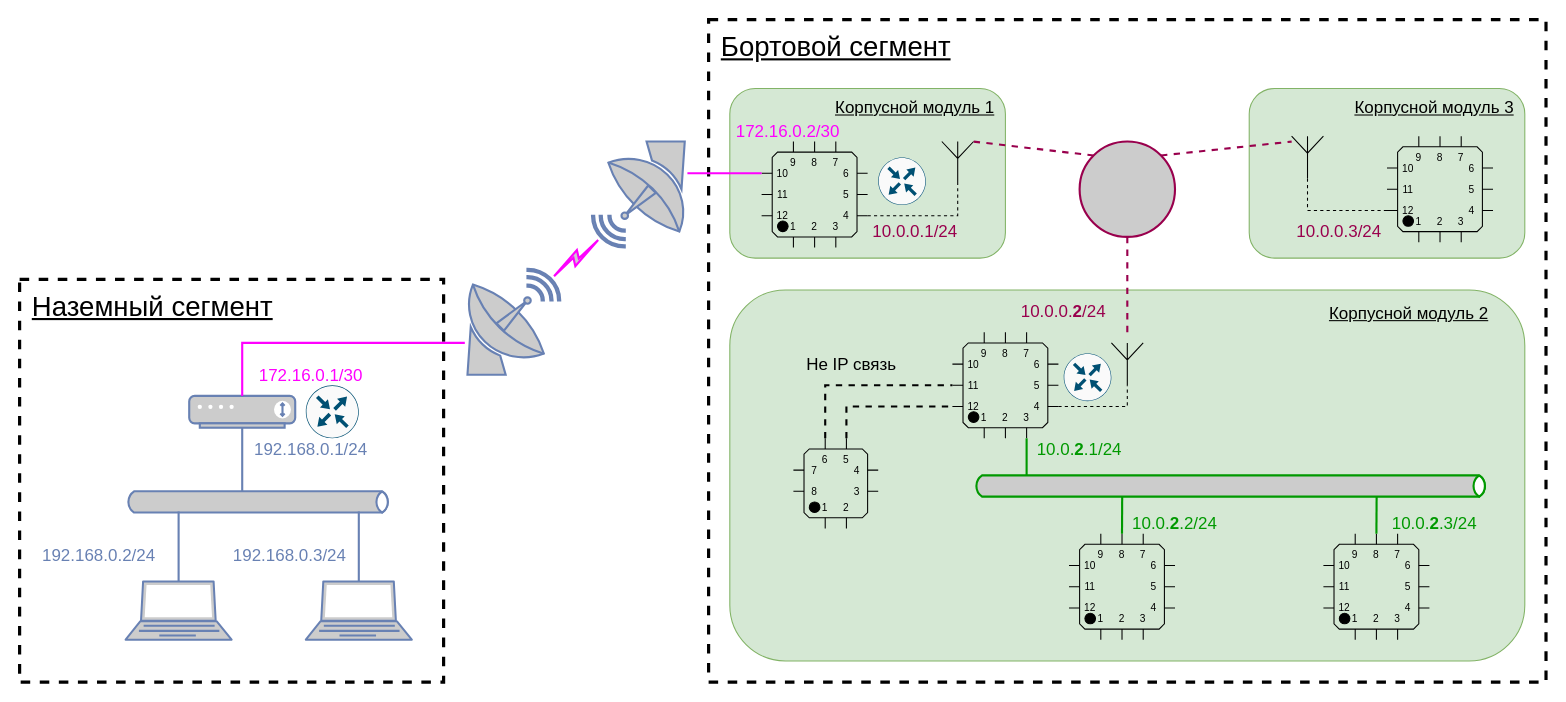
Some shapes in this 1566 by 702 pixel diagram are drawn without their labels. Here are the shapes that lost their labels. From the top down, the centre of each, then its label:
At [1127,188]: "Wi-Fi".
At [257,501]: "Ethernet".
At [1230,485]: "CAN / Ethernet / PPP / ...".
